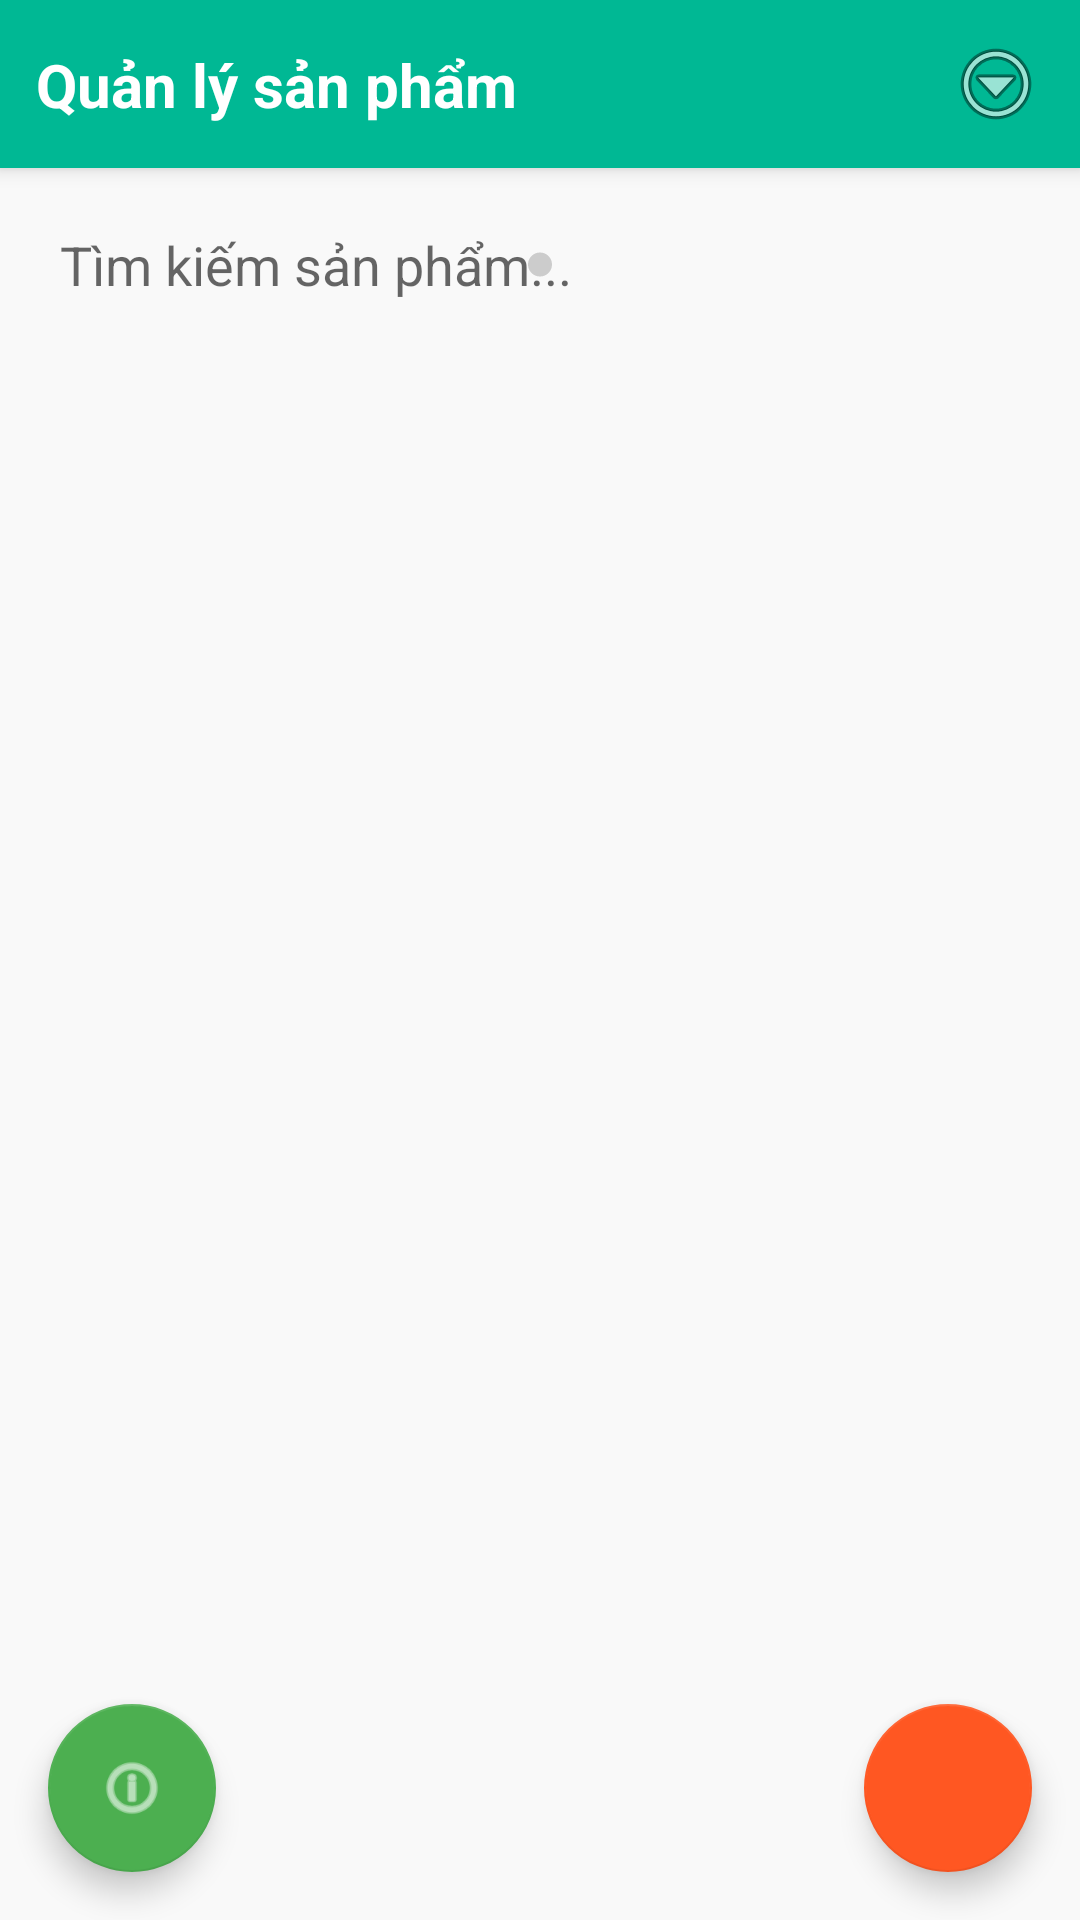

Icon bounding boxes for this 1080px x 1920px phone screenshot, format (x1,y1,x2,y2):
Menu: (960,49,1032,119)
